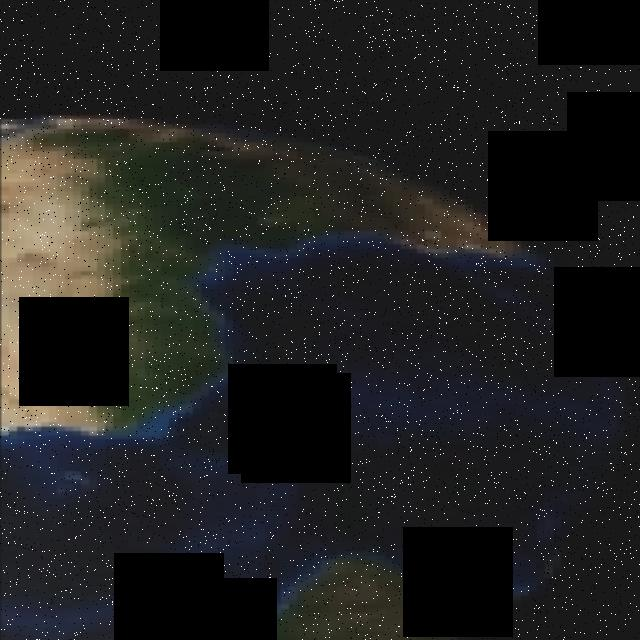Earth: (0, 116, 632, 640)
